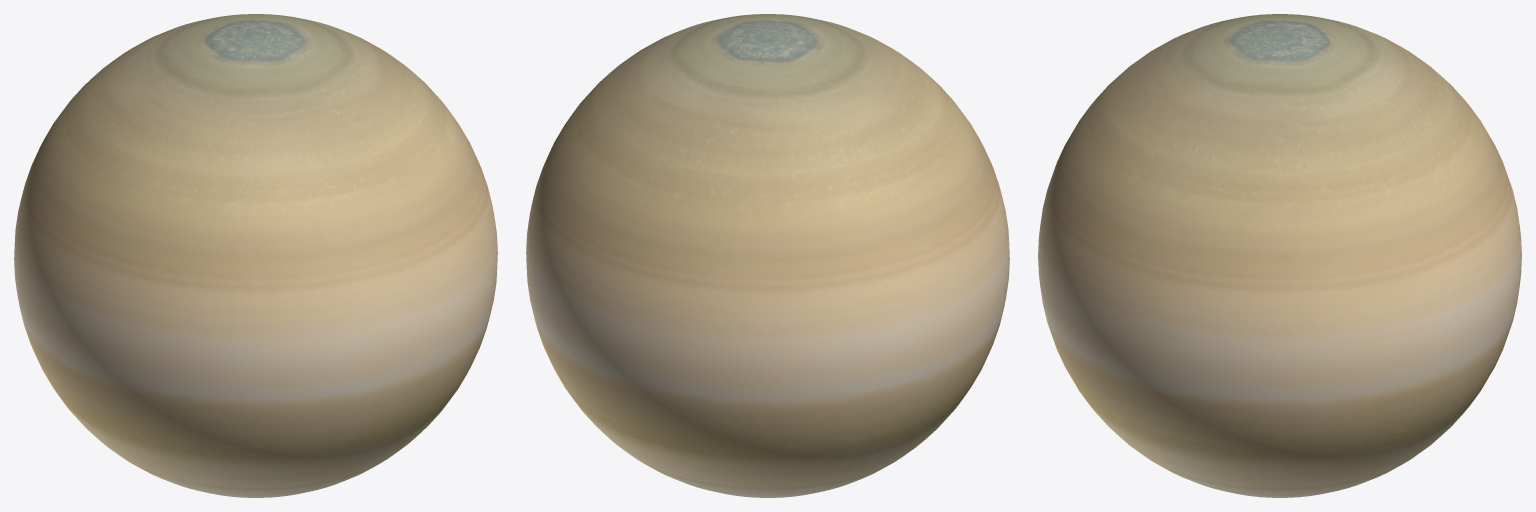
Rendered from ball-saturn.glb.
3 renders of one model, left to right at view 1: azimuth 30°, elevation 25°; view 2: azimuth 150°, elevation 25°; view 3: azimuth 270°, elevation 25°, orthographic.
Parts seen in each view (by area): view 1: voyager2; view 2: voyager2; view 3: voyager2.
Boxes of the visible parts, left/top/right/bottom form: voyager2: left=14, top=14, right=497, bottom=497; voyager2: left=526, top=14, right=1009, bottom=497; voyager2: left=1038, top=14, right=1521, bottom=497.
Bounding box in the file's own units: 2 × 2 × 2.
1 material, 1 textured.
